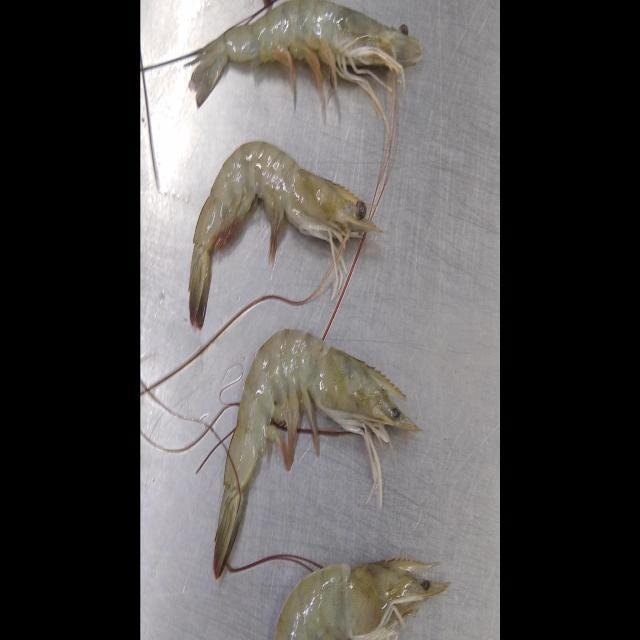shrimp: (212, 329, 420, 578), (189, 142, 379, 329), (189, 0, 422, 120), (274, 558, 449, 640)
